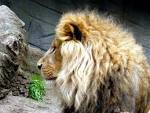lion: (35, 15, 148, 113)
